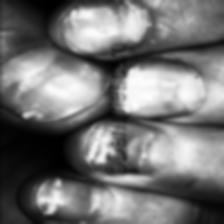Toxin: (7, 6, 105, 122), (31, 174, 105, 220), (79, 120, 105, 168)
